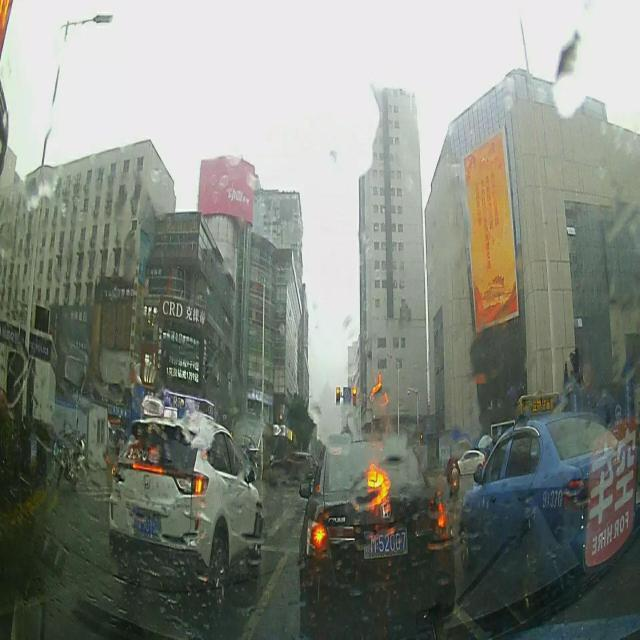car: (461, 394, 640, 611), (293, 432, 457, 640), (115, 411, 264, 584), (274, 446, 318, 490), (459, 450, 486, 474)
